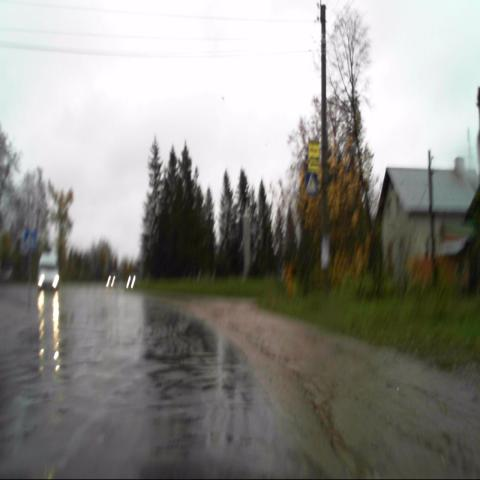5_19_1: (304, 173, 318, 195)
